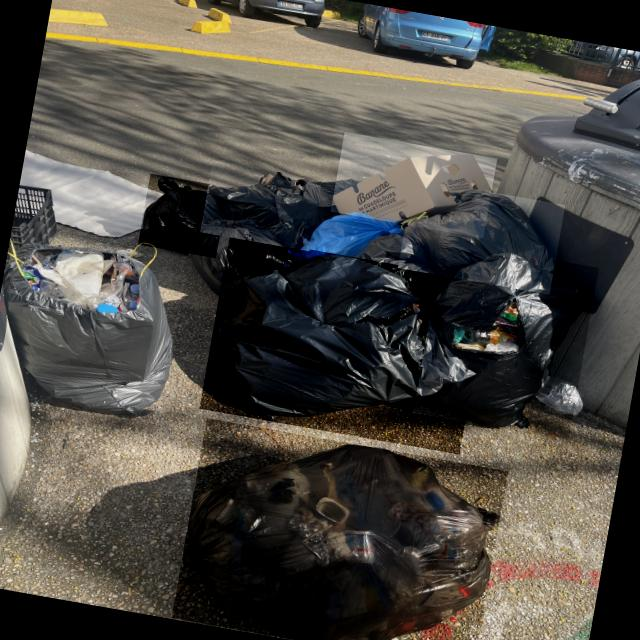Garbage bag: (186, 445, 497, 640), (217, 255, 473, 421), (424, 252, 593, 428), (2, 264, 171, 415), (404, 190, 554, 277), (208, 172, 317, 249), (142, 176, 222, 253)
Other Carton: (333, 155, 492, 222)
